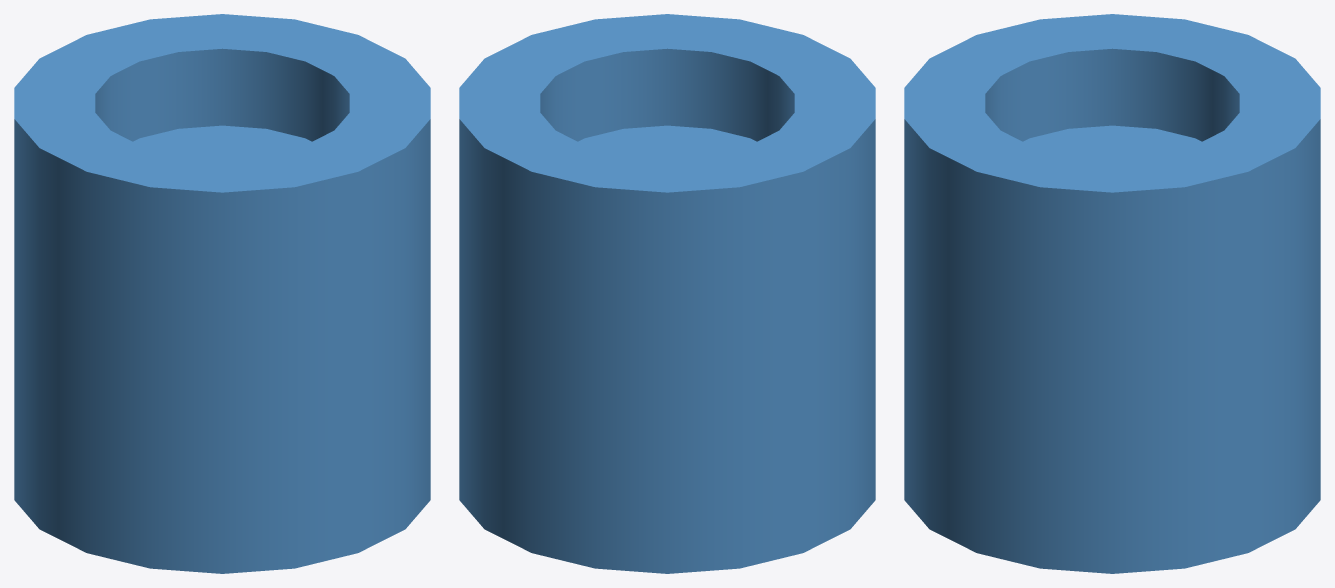
File: Rook2.glb
3 renders of one model, left to right at view 1: azimuth 30°, elevation 25°; view 2: azimuth 150°, elevation 25°; view 3: azimuth 270°, elevation 25°, orthographic.
Visible parts, largest first — view 1: Cylinder001; view 2: Cylinder001; view 3: Cylinder001.
Part boxes in pixels (left/top/right/bottom): Cylinder001: left=14, top=14, right=430, bottom=573; Cylinder001: left=459, top=14, right=875, bottom=573; Cylinder001: left=904, top=14, right=1320, bottom=573.
Bounding box in the file's own units: 0.7419 × 0.7385 × 0.7307.
